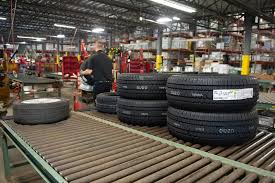tire: (166, 74, 260, 112), (167, 107, 259, 144), (12, 97, 69, 125), (116, 99, 167, 126), (118, 74, 167, 99), (95, 92, 118, 114)
